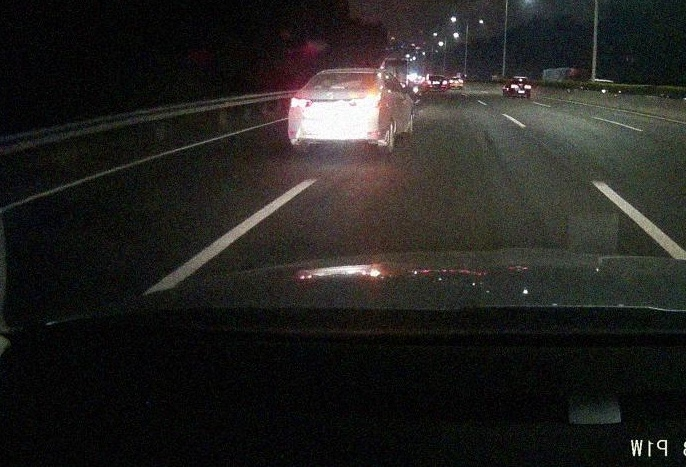L_light: (289, 97, 312, 107)
R_light: (353, 97, 378, 107)
T_light: (340, 73, 353, 77)
night-no: (287, 67, 382, 154)
